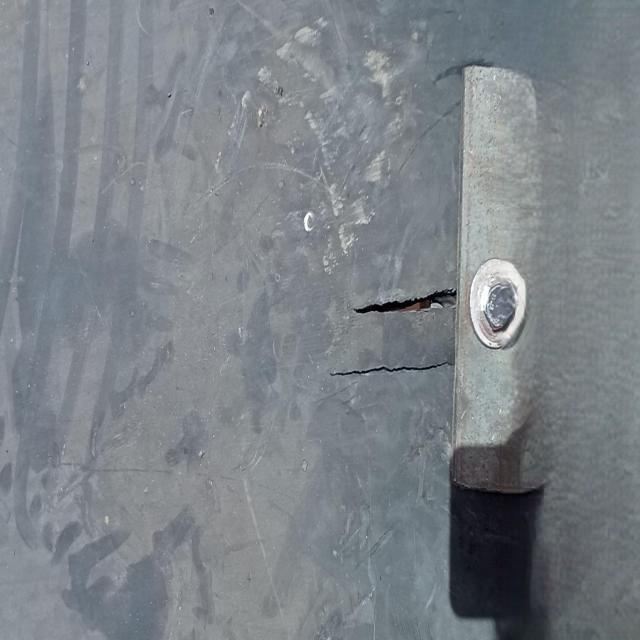Tear: (322, 349, 460, 390), (343, 276, 463, 321)
